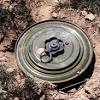car: (9, 16, 97, 94)
